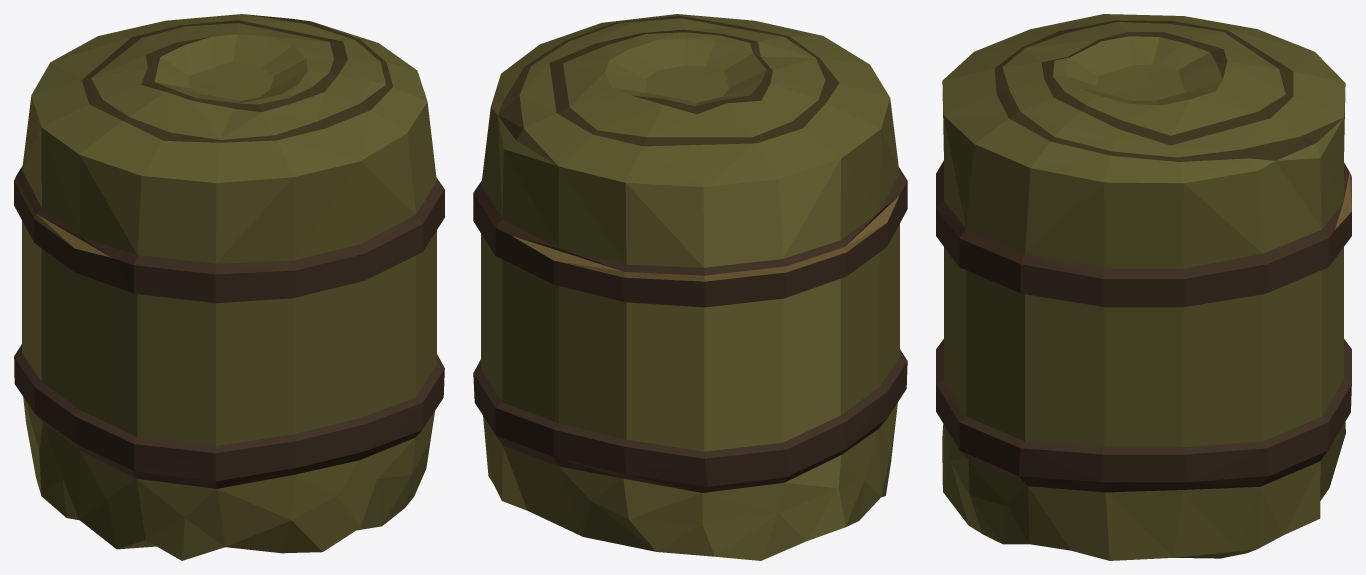
File: EA_M_HayBale_Green_01c.fbx
3 views of the same model, side by side, from view 1: azimuth 30°, elevation 25°; view 2: azimuth 150°, elevation 25°; view 3: azimuth 270°, elevation 25° (orthographic). The views are drawn at different scales.
Parts seen in each view (by area): view 1: EA_M_HayBale_Green_01c_LOD0; view 2: EA_M_HayBale_Green_01c_LOD0; view 3: EA_M_HayBale_Green_01c_LOD0.
Boxes of the visible parts, x1,y1,x2,y2 form: EA_M_HayBale_Green_01c_LOD0: [14, 14, 444, 560]; EA_M_HayBale_Green_01c_LOD0: [473, 14, 907, 560]; EA_M_HayBale_Green_01c_LOD0: [936, 14, 1351, 560].
Size of what is drawn, in the model's own units: 1.99 by 2.33 by 1.99.
